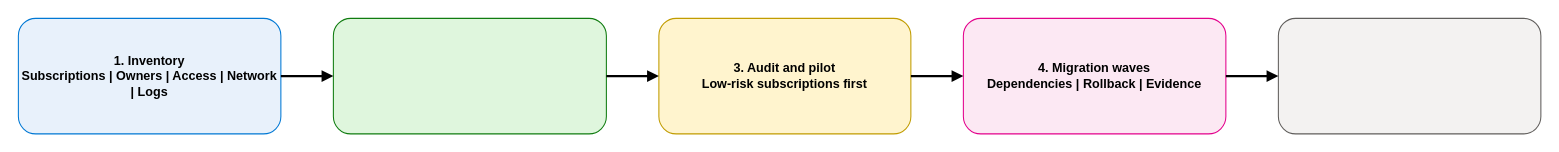
Image size: 1559x152. Some labels were removed from this diagram. The box of each missing label's shape, as (x1, y1, x2, y2) in pixels:
2. Target design Hierarchy | Policy | Identity | Connectivity: (332, 17, 606, 134)
5. Steady state Remove temporary paths and exemptions: (1277, 17, 1541, 134)
